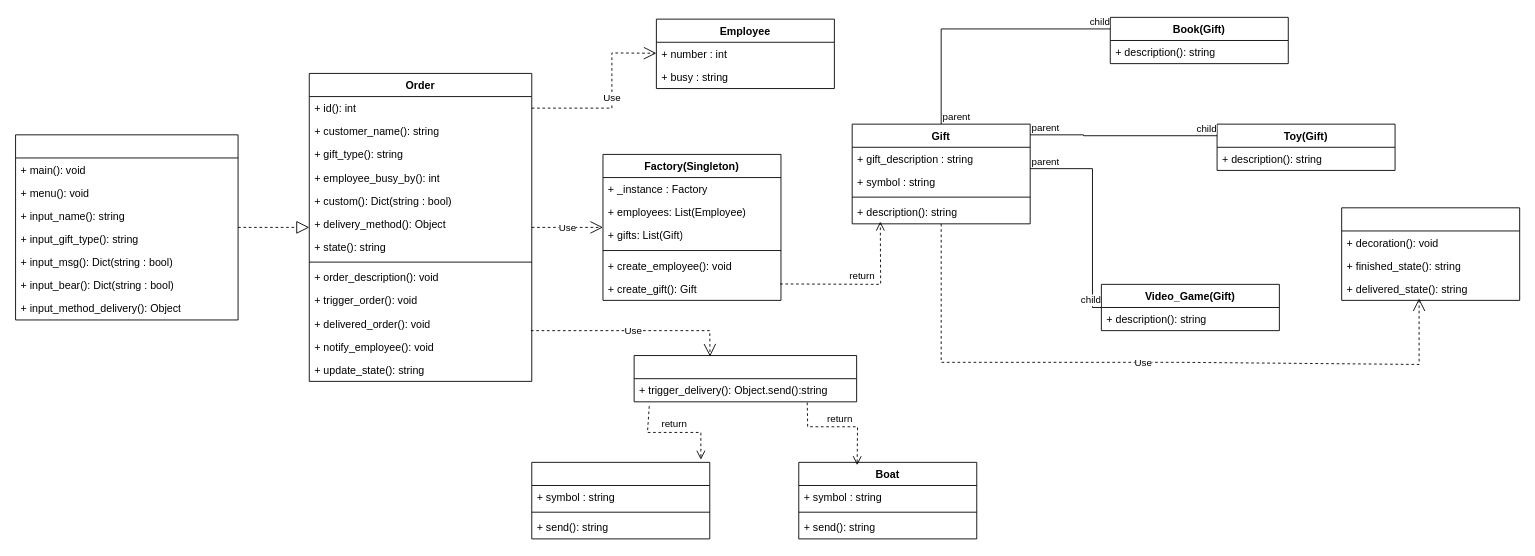
Some shapes in this 1535 by 556 pixel diagram are drawn without their labels. Each missing label, with the box of its shape:
Custom: (1341, 207, 1520, 300)
Delivery_Context: (633, 355, 857, 402)
Interface: (15, 134, 238, 320)
Truck: (531, 461, 710, 539)
